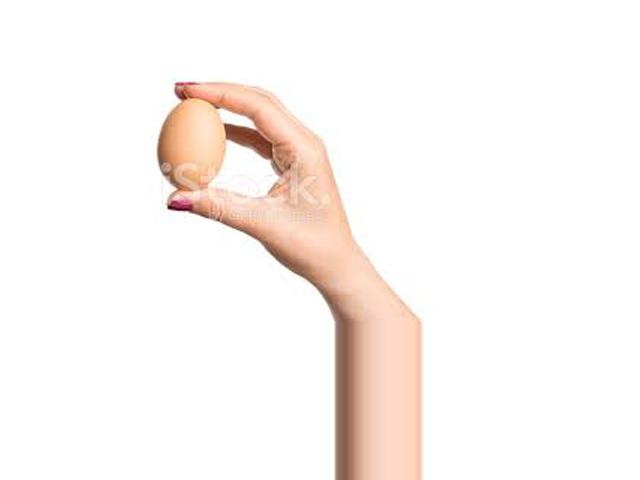egg: (160, 98, 224, 191)
